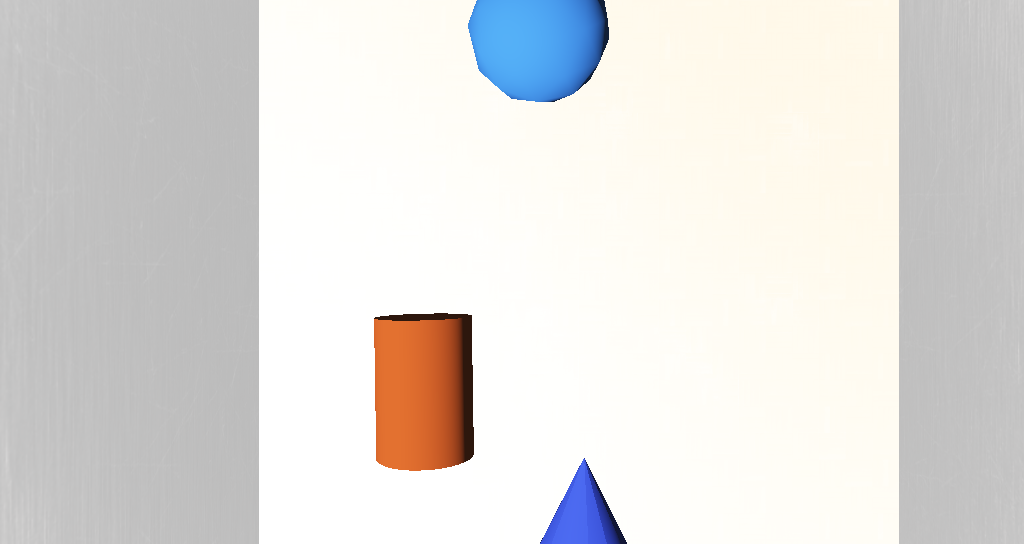cone: (404, 282, 458, 329)
cylinder: (475, 327, 536, 379)
sphere: (451, 174, 519, 217)
